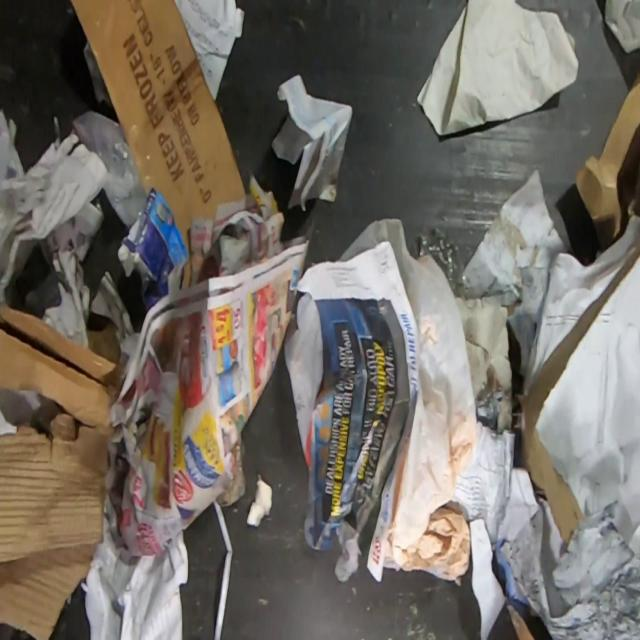cardboard: (70, 0, 246, 255), (0, 300, 120, 640), (520, 244, 640, 548), (576, 65, 640, 251), (116, 186, 190, 314)
rigid_plastic: (418, 227, 475, 300)
soft_plastic: (338, 217, 477, 549), (69, 109, 146, 228), (283, 292, 324, 453)
